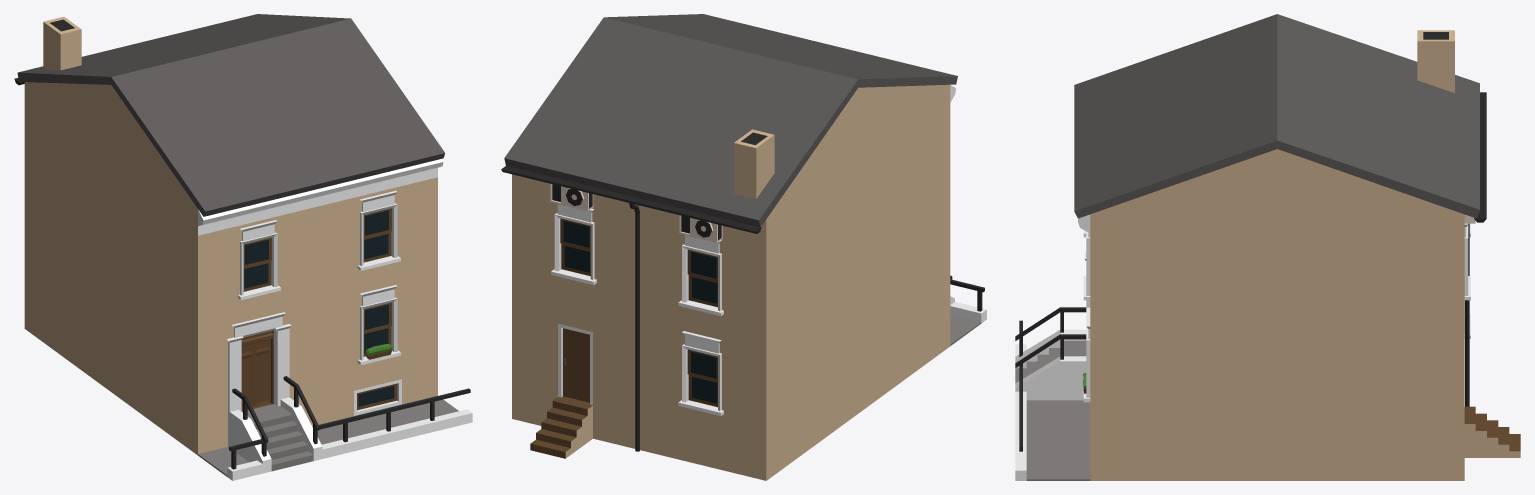
Rendered from building-skyscraper.glb.
3 renders of one model, left to right at view 1: azimuth 30°, elevation 25°; view 2: azimuth 150°, elevation 25°; view 3: azimuth 270°, elevation 25°, orthographic. The views are drawn at different scales.
Visible parts, largest first — view 1: building-house-block-big; view 2: building-house-block-big; view 3: building-house-block-big.
Part boxes in pixels (left/top/right/bottom): building-house-block-big: left=14, top=14, right=472, bottom=480; building-house-block-big: left=501, top=14, right=986, bottom=480; building-house-block-big: left=1015, top=14, right=1520, bottom=480.
Size of the model in its own units: 8 by 10.04 by 13.5.
